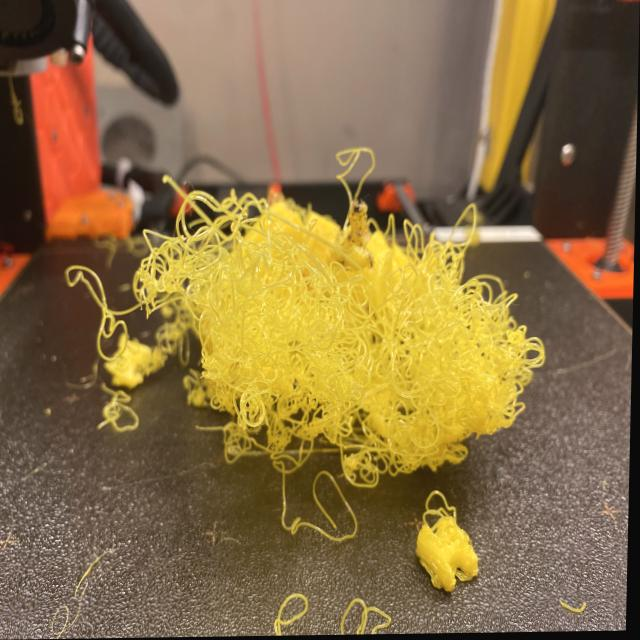spaghetti: (74, 130, 580, 542)
